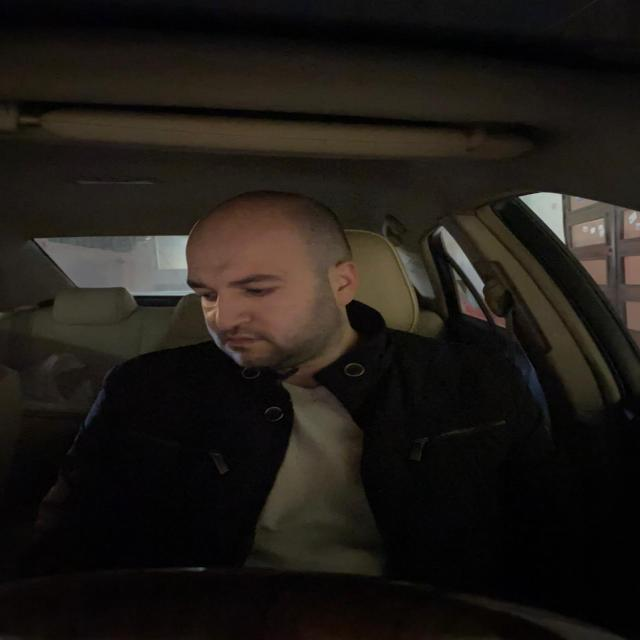person: (174, 205, 355, 366)
